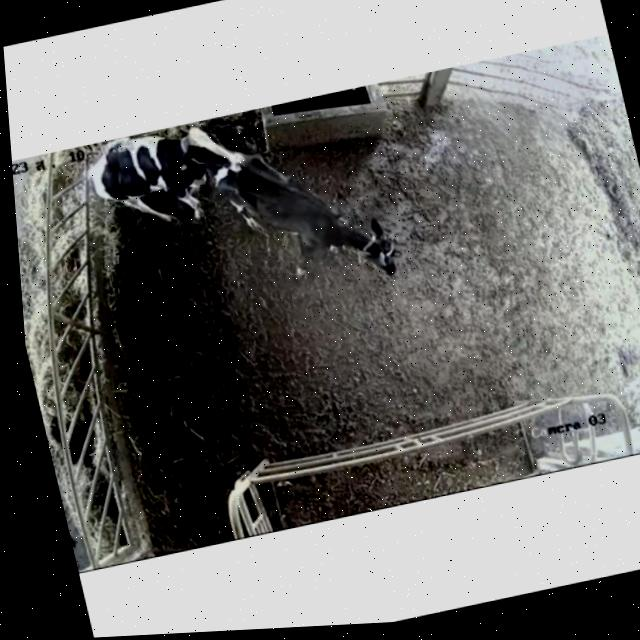propping: (164, 108, 272, 202)
